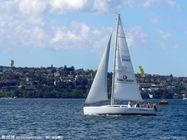fanchuan: (80, 10, 159, 118)
